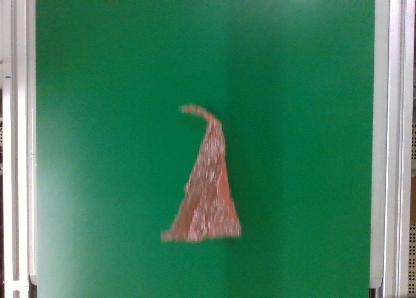Others: (160, 103, 242, 243)
